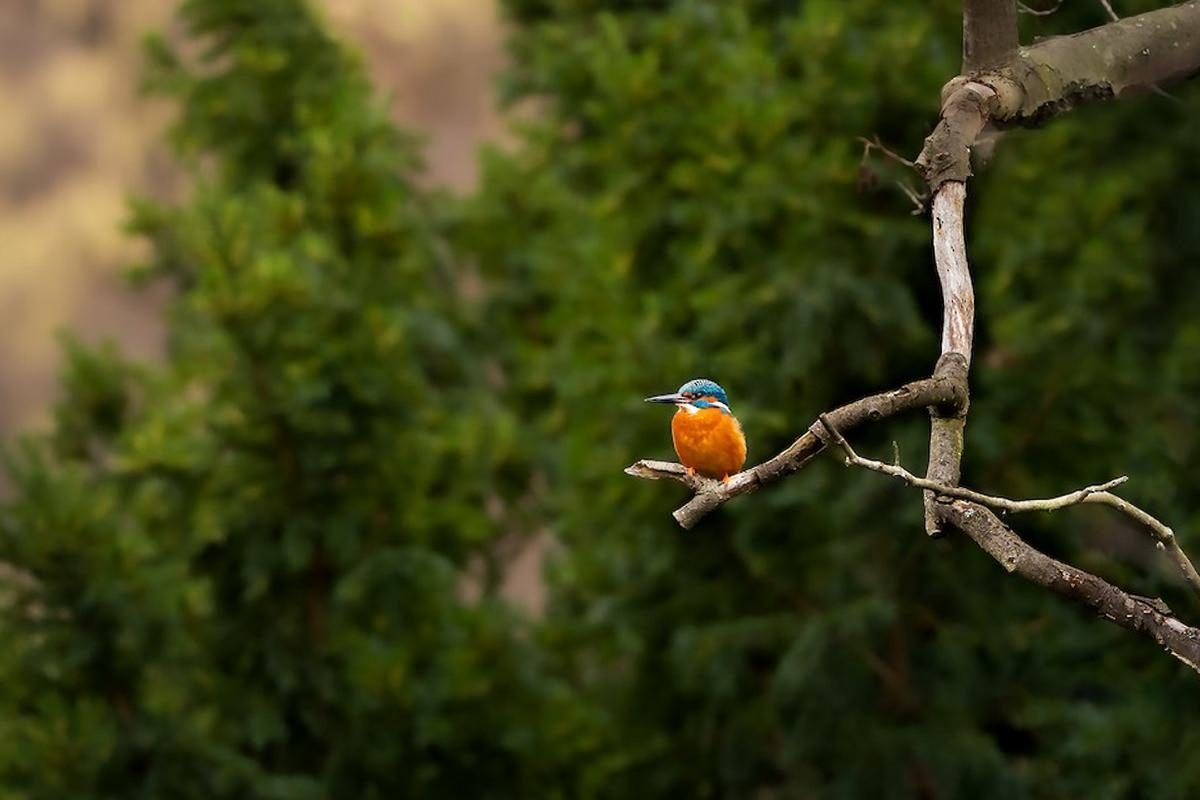kingfisher: (633, 365, 773, 515)
